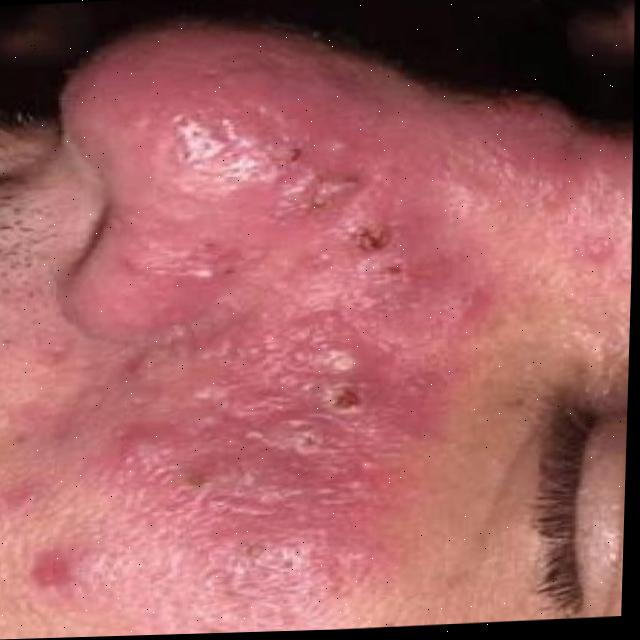Rosacea: (143, 69, 484, 572)
